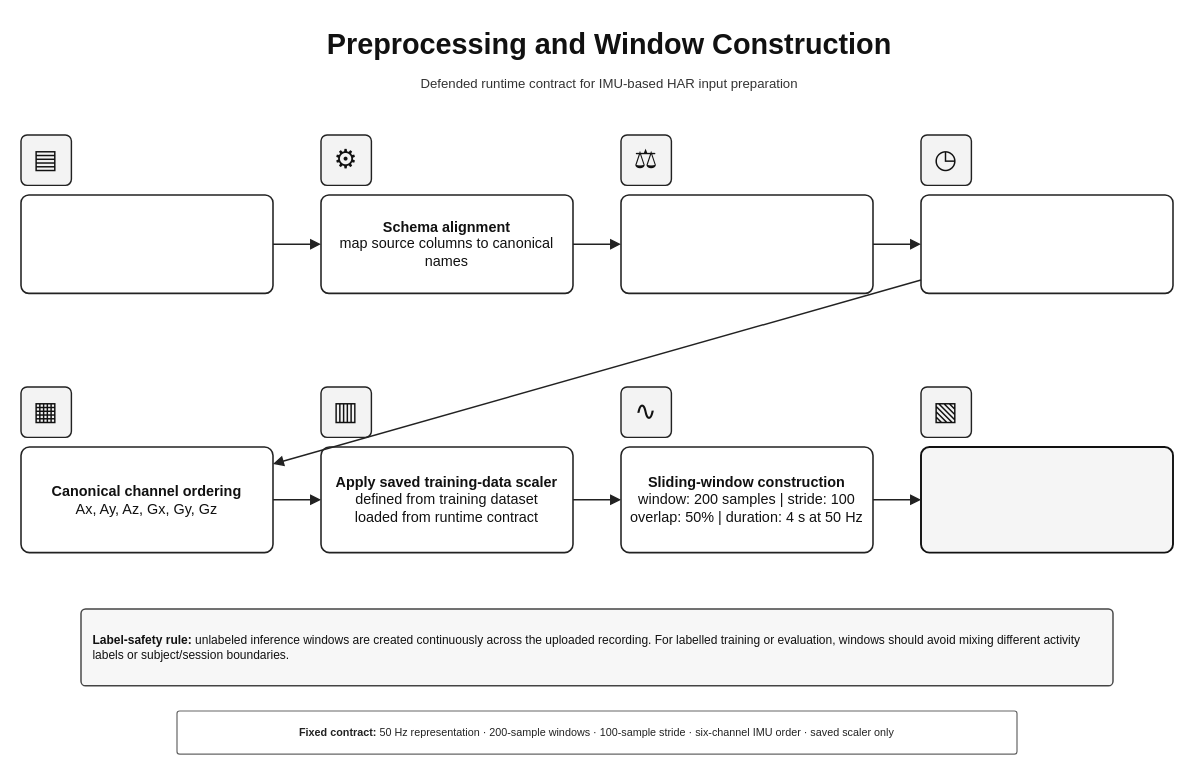
The diagram is 1195 pixels wide and 775 high, and some of its shapes have lost their labels. The centre of each missing label's shape, as x and y in pixels:
"Model-ready tensor (N, 200, 6)" goes at [1046,499].
"Raw sensor files accelerometer CSV + gyroscope CSV" goes at [146,244].
"Temporal alignment resample / align to 50 Hz" goes at [1046,244].
"Unit harmonization accelerometer: milliG → m/s² gyroscope: °/s" goes at [746,244].
